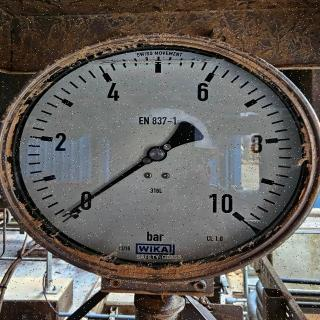gauge: (0, 36, 320, 290), (208, 191, 260, 237), (54, 190, 94, 226), (147, 145, 167, 162), (61, 210, 72, 218)
